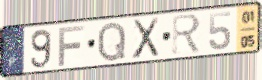5: (208, 10, 233, 52)
9: (29, 28, 53, 70)
F: (57, 24, 87, 68)
Q: (96, 20, 127, 64)
R: (171, 12, 203, 56)
X: (131, 16, 161, 61)
